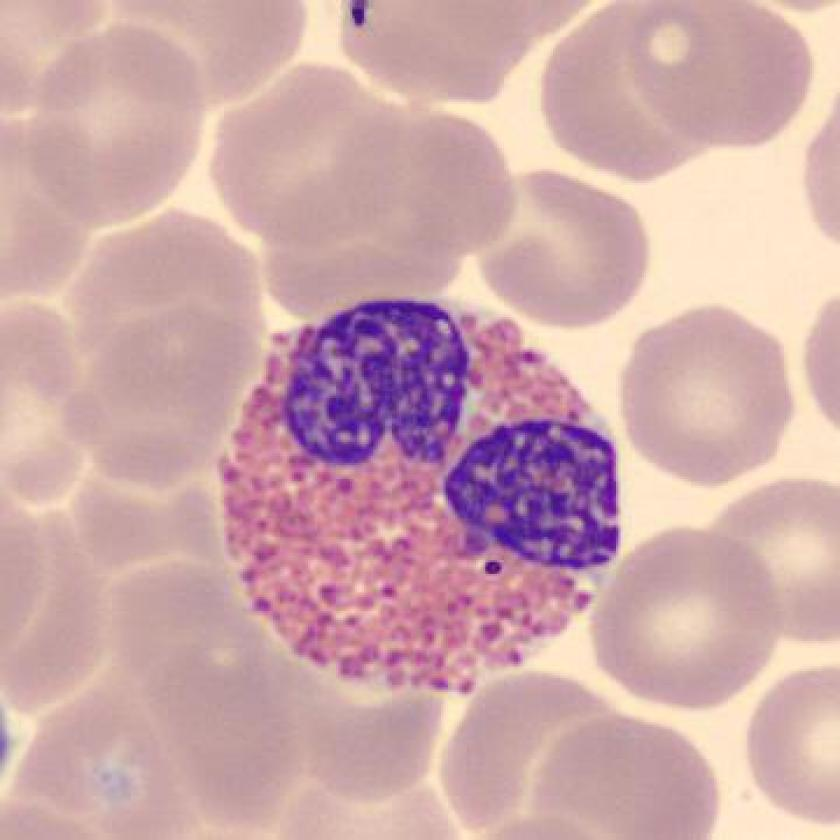eosinophil: (207, 288, 641, 704)
